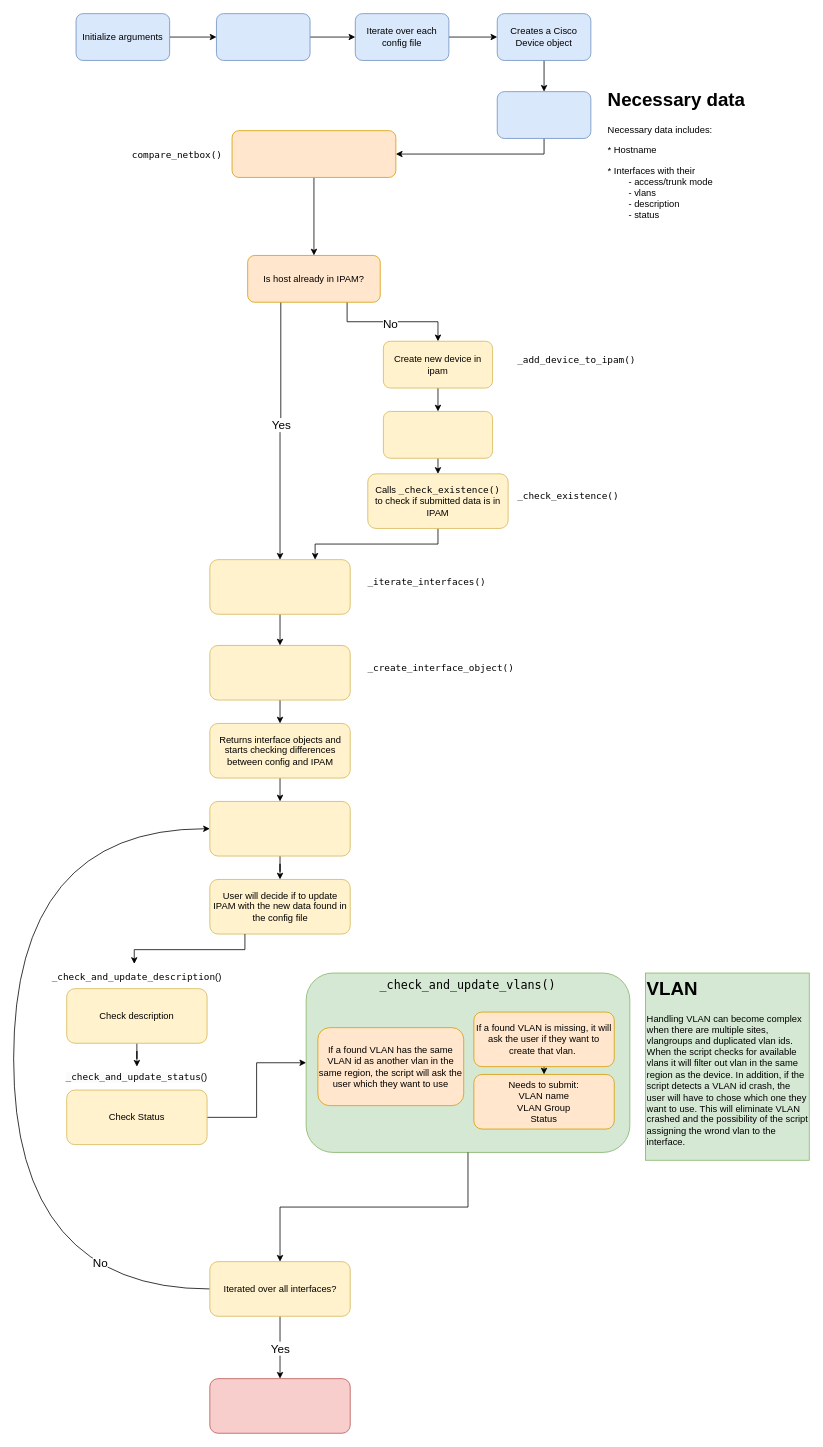
Some shapes in this 823 by 1447 pixel diagram are drawn without their labels. Here are the shapes that lost their labels. From the top down, the centre of each, then its label:
the point at 263,36: Check if submitted config file(s) exists
the point at 543,114: Parse config and store necessary data
the point at 313,153: Compare config to data in IPAM
the point at 438,434: Asks for: Device type Device Role Site
the point at 279,586: Iterates over the device's interfaces in IPAM
the point at 279,672: Creates interfaces objects for each interface found in configfile
the point at 279,828: Checks for differences and calls _handle_conflict()
the point at 279,1405: Quit
